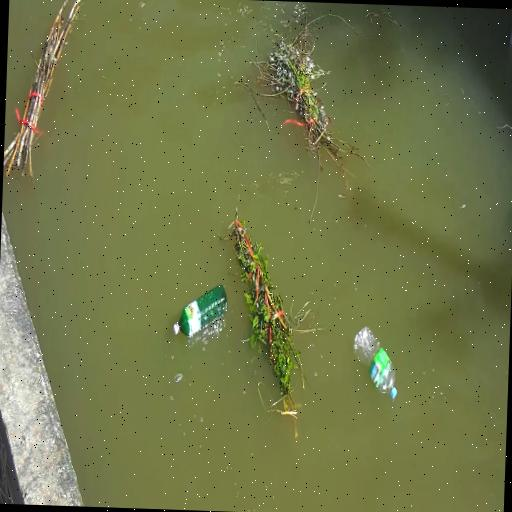plastic: (171, 272, 230, 342), (352, 328, 400, 410)
twig: (228, 208, 310, 409), (3, 0, 79, 169), (272, 23, 340, 155)
